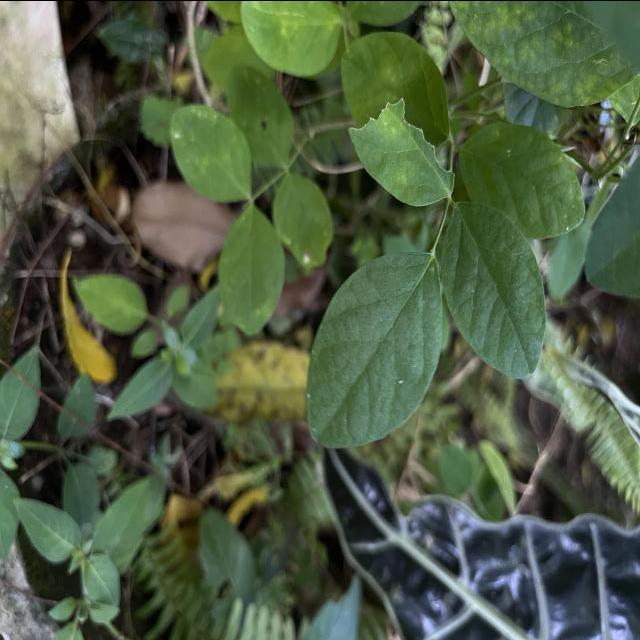Clitoria ternatea: (304, 248, 444, 449), (440, 200, 548, 380), (456, 120, 587, 241)
